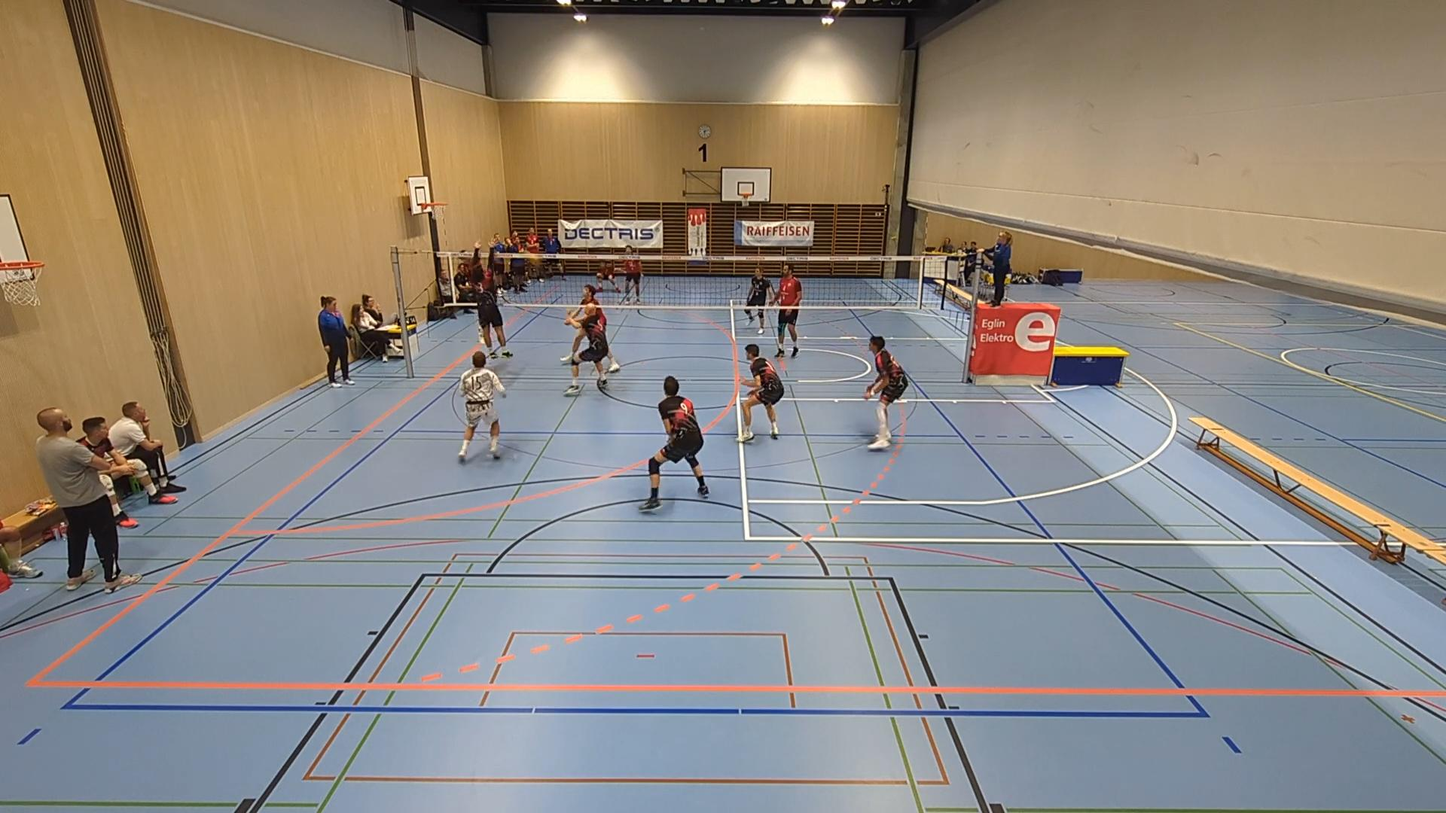Block: (465, 243, 516, 360)
Player: (639, 376, 709, 511), (458, 350, 505, 461), (864, 336, 908, 449), (738, 343, 783, 442), (565, 304, 608, 396), (560, 285, 605, 363), (773, 265, 802, 357), (745, 267, 771, 334), (621, 246, 642, 303), (596, 260, 621, 292)
